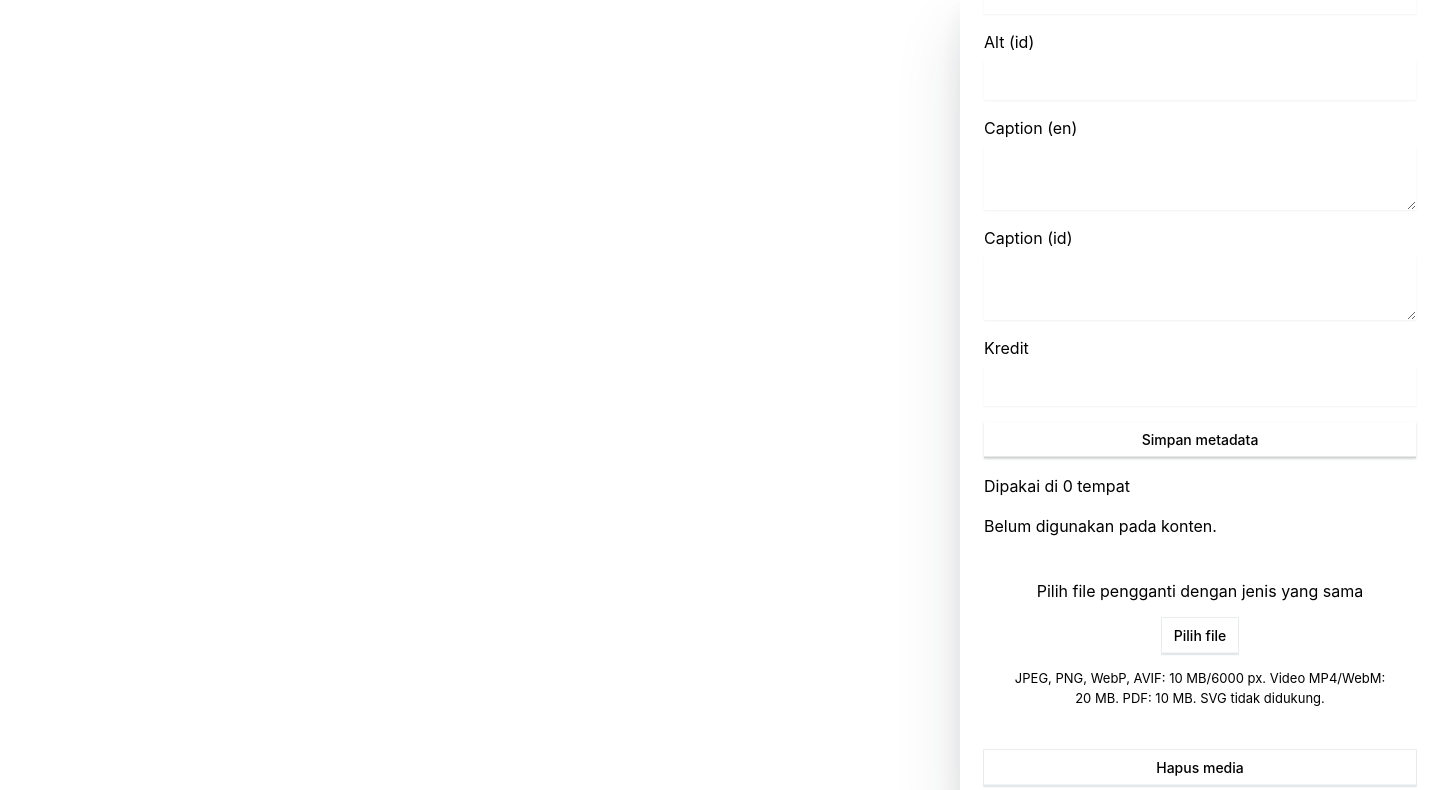
Test case: announces a successful metadata save inside the active drawer
(page scrolled)
What coordinates should you click on to do the following:
click the button "Simpan metadata"
I would click on:
 (1200, 440)
Its box is [984,422,1416,458].
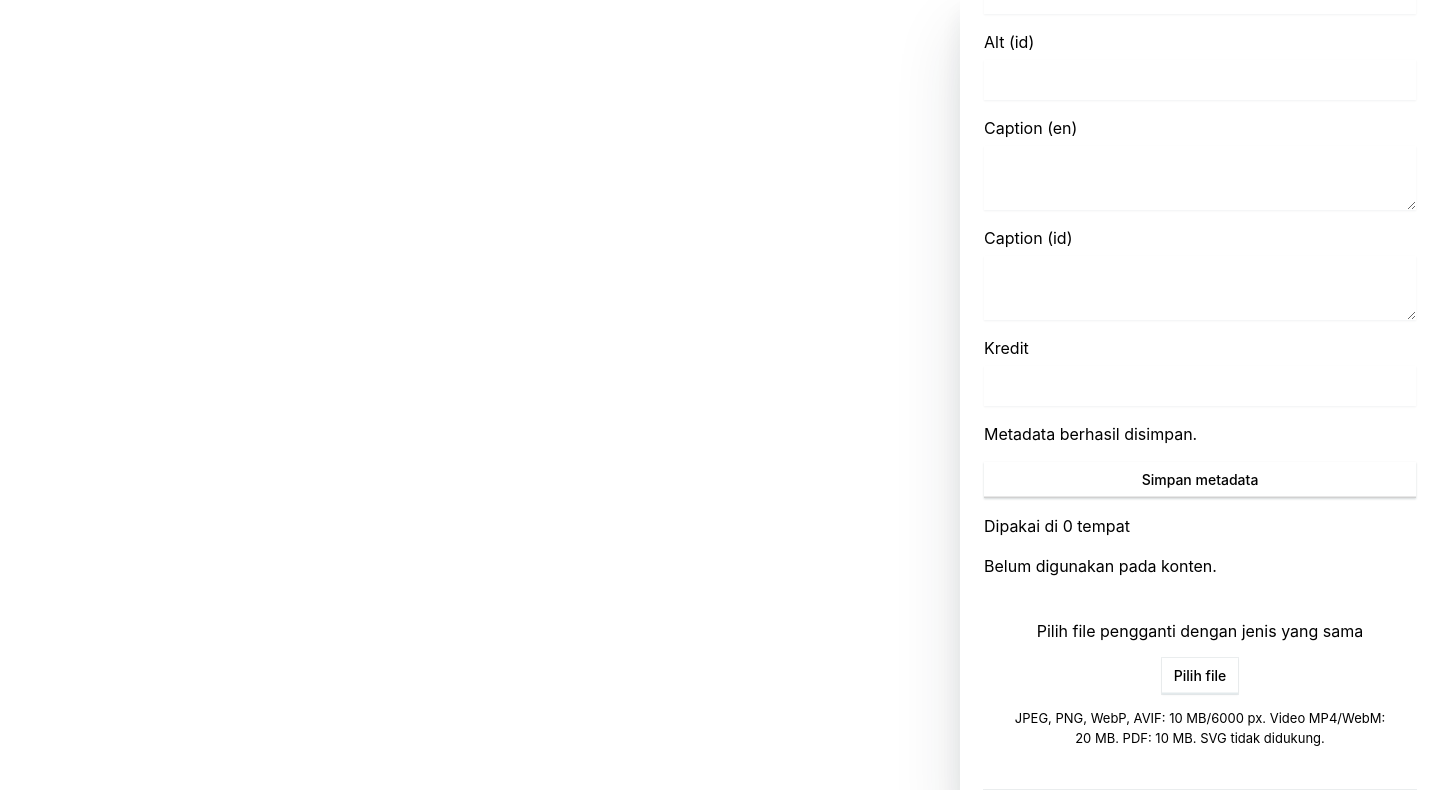
Check: the message shows "Metadata berhasil disimpan", box [984,424,1197,444]
